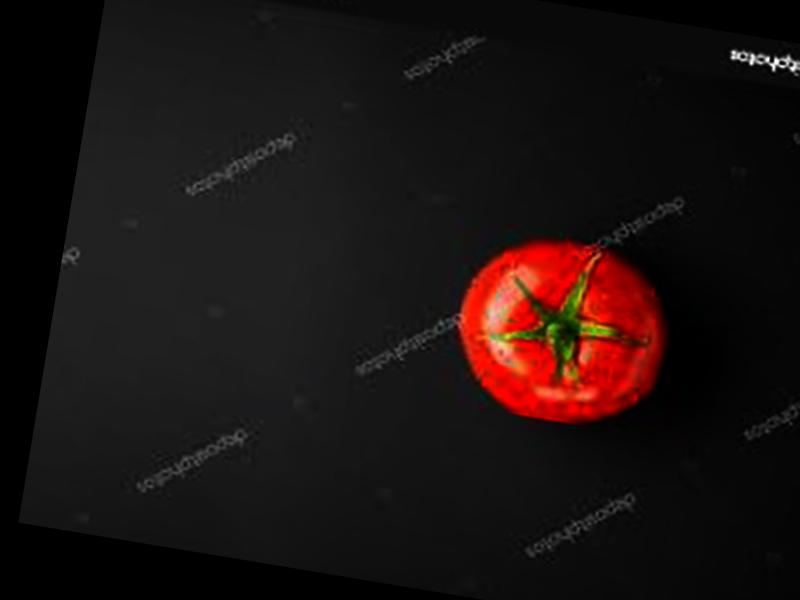Tomato: (441, 223, 680, 439)
